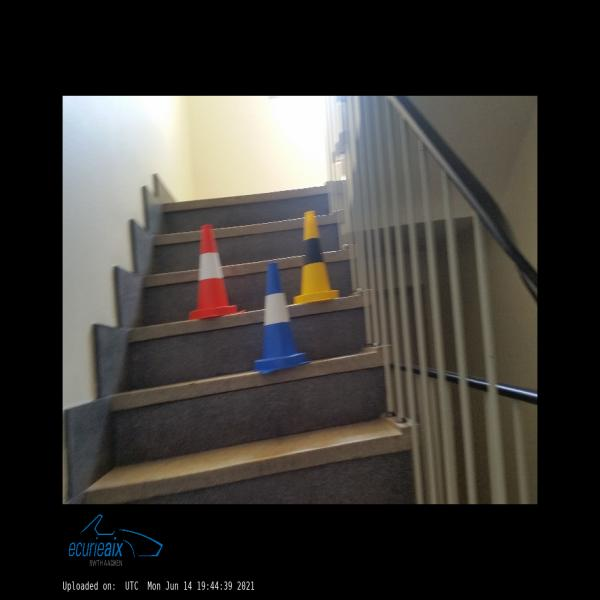blue_cone: (251, 262, 311, 374)
orange_cone: (185, 224, 246, 321)
yellow_cone: (293, 210, 340, 304)
